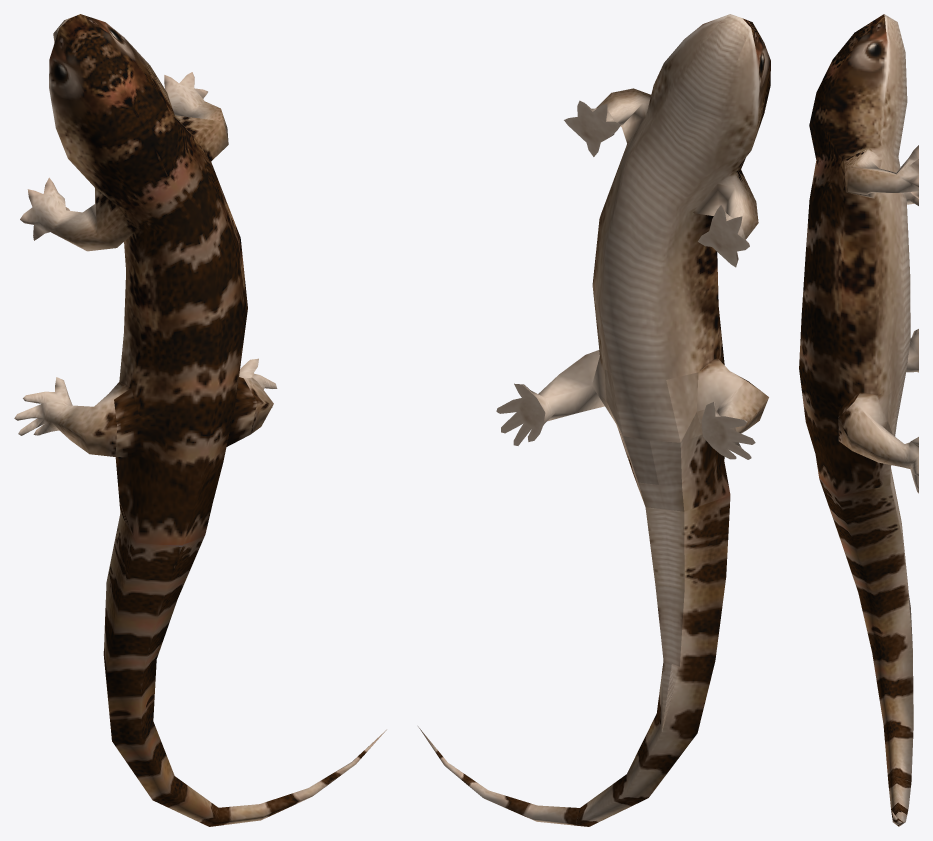
File: ShaShouJia_01_bihu_01.FBX
The picture shows the model from 3 angles, left to right: view 1: azimuth 30°, elevation 25°; view 2: azimuth 150°, elevation 25°; view 3: azimuth 270°, elevation 25°; orthographic projection. The views are drawn at different scales.
Parts seen in each view (by area): view 1: ShaShouJia_01_bihu_01; view 2: ShaShouJia_01_bihu_01; view 3: ShaShouJia_01_bihu_01.
Boxes of the visible parts, x1=… form: ShaShouJia_01_bihu_01: x1=14, y1=14, x2=386, y2=826; ShaShouJia_01_bihu_01: x1=418, y1=14, x2=770, y2=826; ShaShouJia_01_bihu_01: x1=799, y1=14, x2=918, y2=826.
Bounding box in the file's own units: 68.85 × 157 × 23.75.
